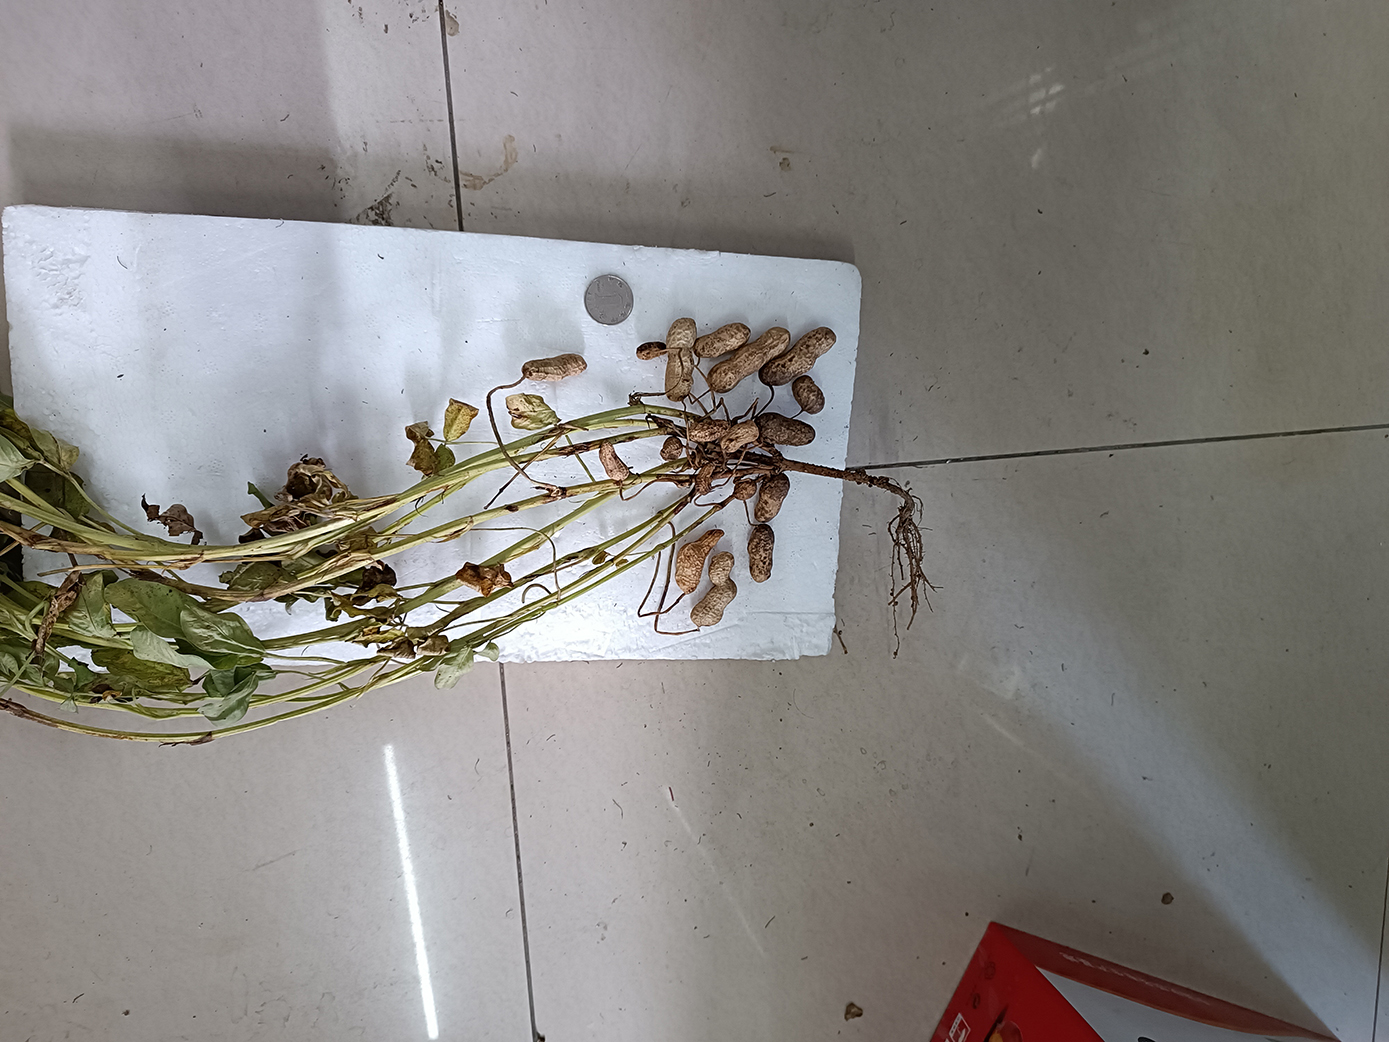h: (707, 326, 792, 395), (757, 326, 840, 387), (691, 549, 738, 627), (673, 529, 722, 594), (665, 319, 698, 402), (694, 322, 752, 360), (521, 354, 587, 382), (746, 524, 777, 584), (597, 438, 630, 484), (724, 422, 759, 454), (692, 420, 728, 444), (660, 436, 683, 463), (733, 478, 757, 501), (636, 341, 667, 359)
l: (757, 412, 817, 445), (792, 377, 827, 414)
